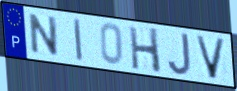0: (98, 22, 124, 68)
H: (127, 25, 163, 75)
I: (72, 17, 84, 64)
J: (166, 31, 193, 77)
N: (28, 12, 60, 58)
V: (193, 34, 228, 81)
